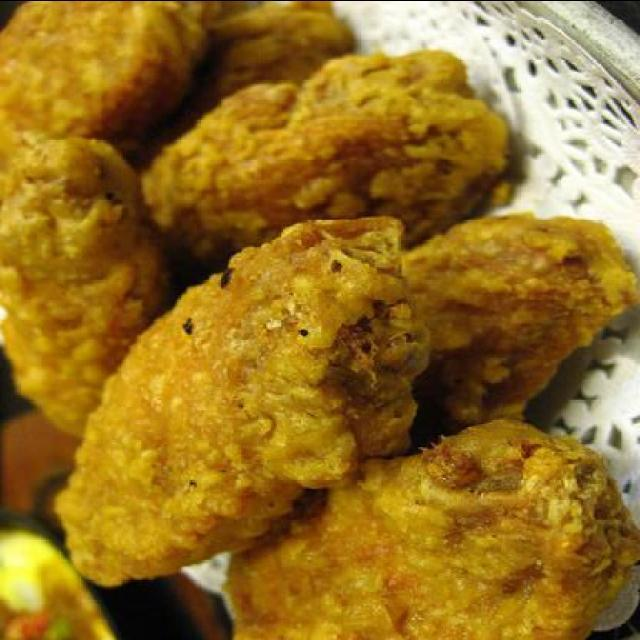Deep fried chicken wing: (52, 197, 430, 586)
